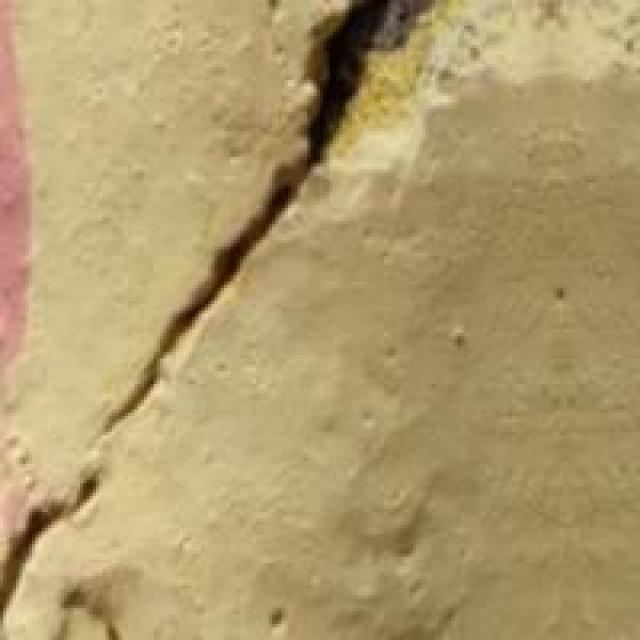Crack: (4, 0, 407, 637)
